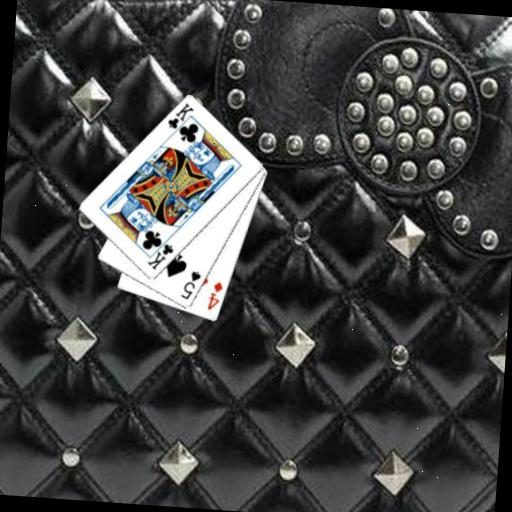4D: (204, 278, 225, 313)
5S: (178, 267, 204, 302)
KC: (144, 234, 177, 274), (163, 99, 196, 139)
